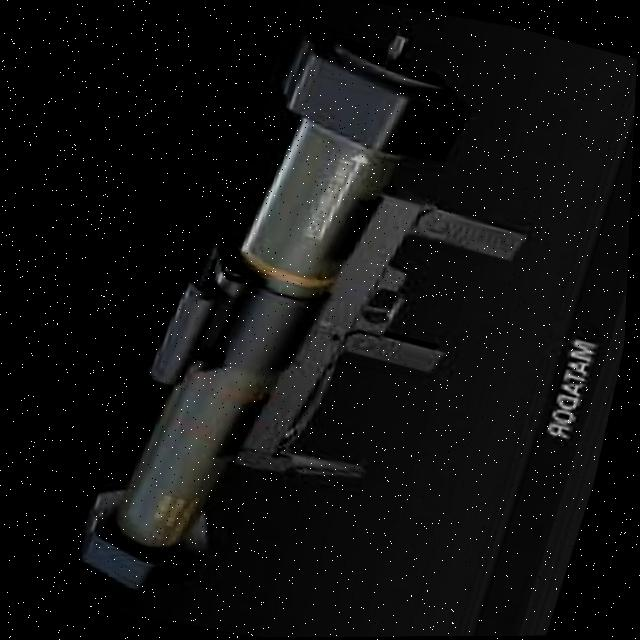rocket: (68, 0, 583, 639)
